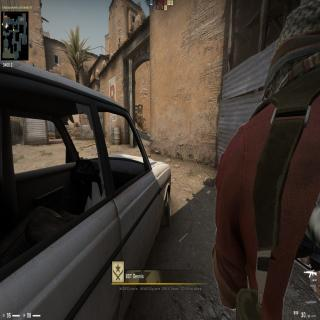T-Head: (265, 5, 320, 106)
